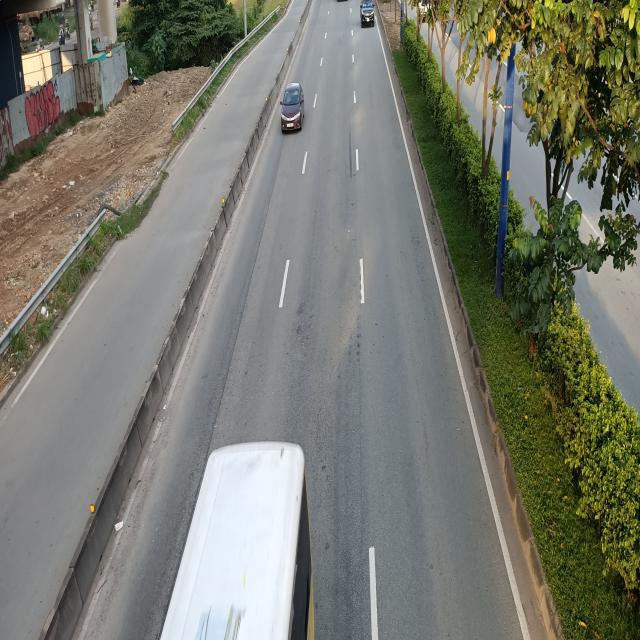car: (279, 84, 304, 133)
